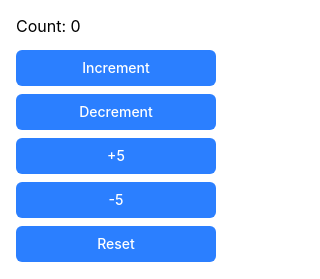
Test case: Count › decrements count when Decrement is clicked
Click the button "Increment". click: x=116, y=68
box: x1=16 y1=50 x2=216 y2=86
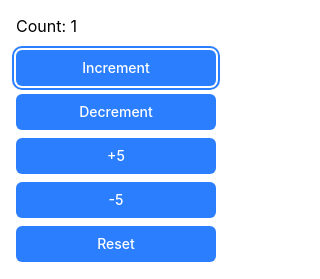
Click the button "Decrement". click: x=116, y=112
box: x1=16 y1=94 x2=216 y2=130
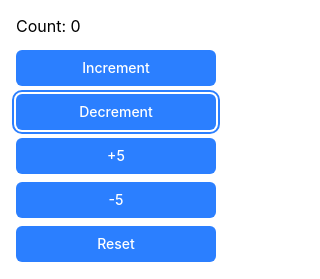
Now the text "Count: 0" is shown, box x1=16 y1=16 x2=81 y2=36
